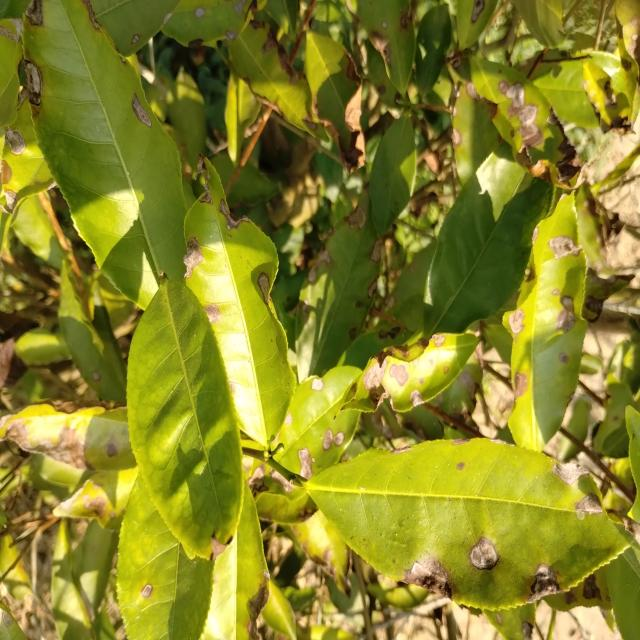Leaf: (306, 439, 627, 609), (22, 0, 186, 309), (127, 279, 243, 558), (183, 158, 295, 445), (424, 145, 553, 333), (504, 194, 587, 450), (295, 187, 383, 380), (117, 480, 213, 640), (471, 59, 579, 182), (338, 333, 478, 412), (202, 485, 270, 640), (229, 21, 318, 133), (58, 258, 125, 403), (275, 366, 361, 478), (0, 402, 136, 470), (305, 32, 365, 172), (12, 193, 86, 302), (2, 99, 54, 213), (369, 116, 416, 235), (357, 0, 415, 95), (54, 467, 138, 530), (290, 511, 350, 595), (91, 0, 180, 56), (51, 521, 92, 640), (452, 81, 499, 184), (531, 60, 598, 128), (72, 520, 117, 614), (162, 0, 252, 46), (168, 67, 206, 174), (225, 72, 260, 165), (606, 546, 640, 640), (614, 0, 640, 121), (416, 5, 451, 94), (582, 61, 629, 126), (513, 0, 564, 48), (227, 164, 278, 207), (14, 328, 71, 365), (262, 581, 297, 640), (457, 0, 497, 50), (586, 52, 624, 94), (208, 153, 234, 183)
